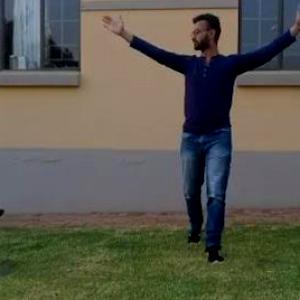takeoff: (95, 3, 299, 254)
